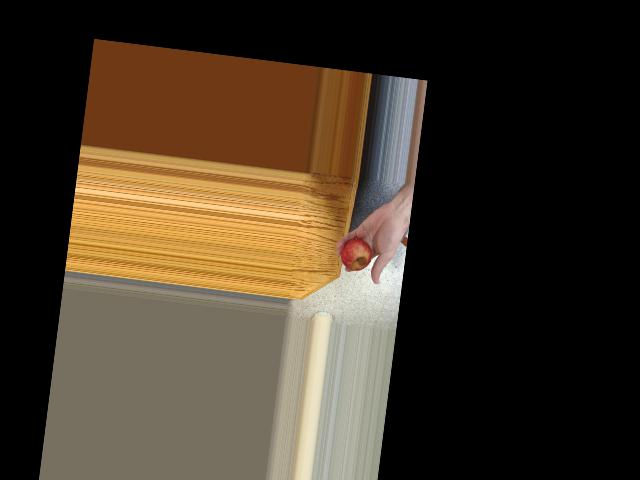apple: (339, 233, 377, 273)
